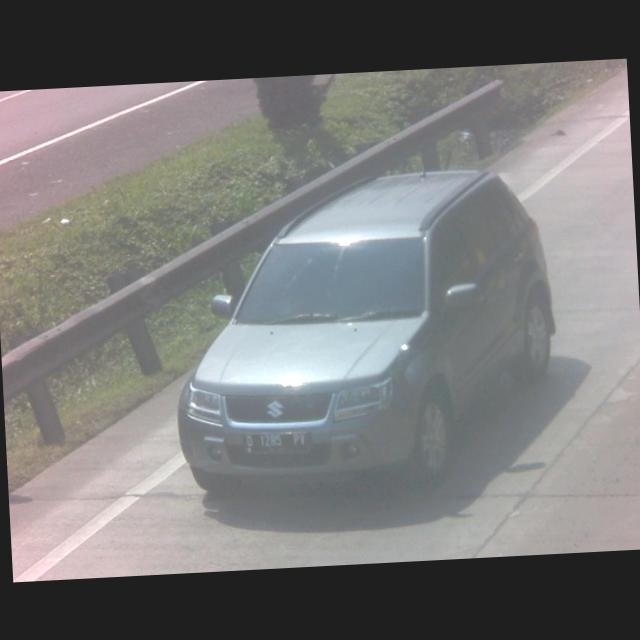plate: (239, 428, 310, 458)
